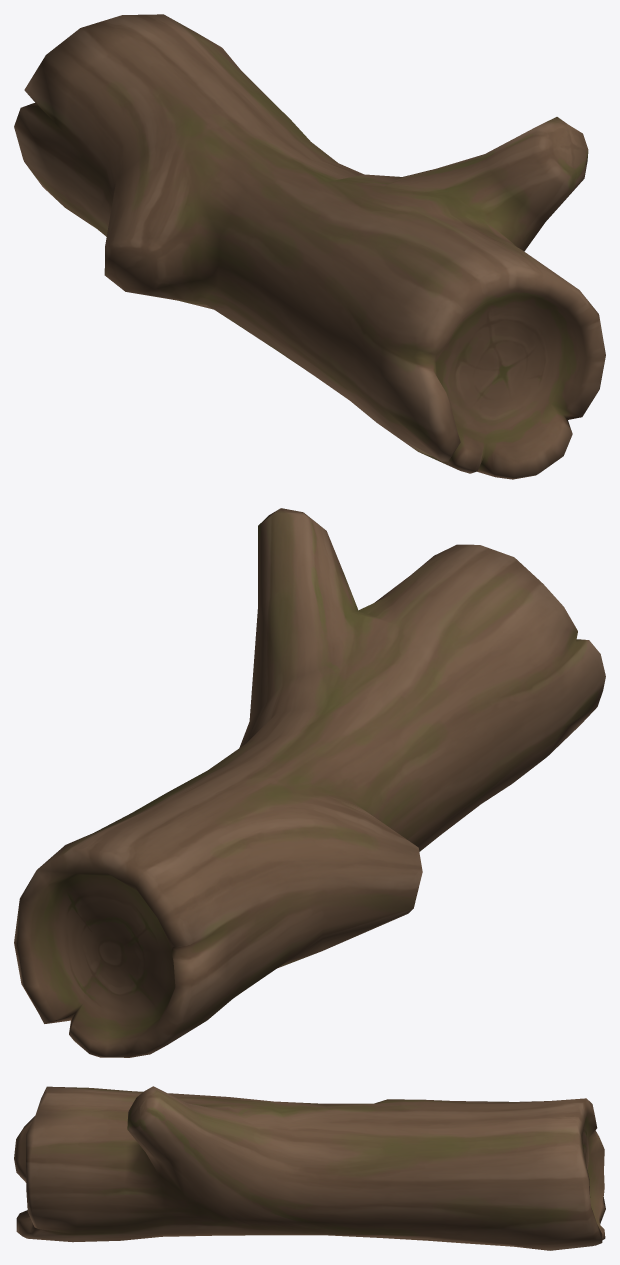
Rendered from SM_Log.FBX.
The picture shows the model from 3 angles, top to bottom: view 1: azimuth 30°, elevation 25°; view 2: azimuth 150°, elevation 25°; view 3: azimuth 270°, elevation 25°; orthographic projection. The views are drawn at different scales.
Visible parts, largest first — view 1: Log; view 2: Log; view 3: Log.
Part boxes in pixels (x1,y1,x2,y2): Log: (14,14,605,479); Log: (14,508,605,1057); Log: (14,1086,605,1250).
Size of the model in its own units: 101 by 84.23 by 230.
